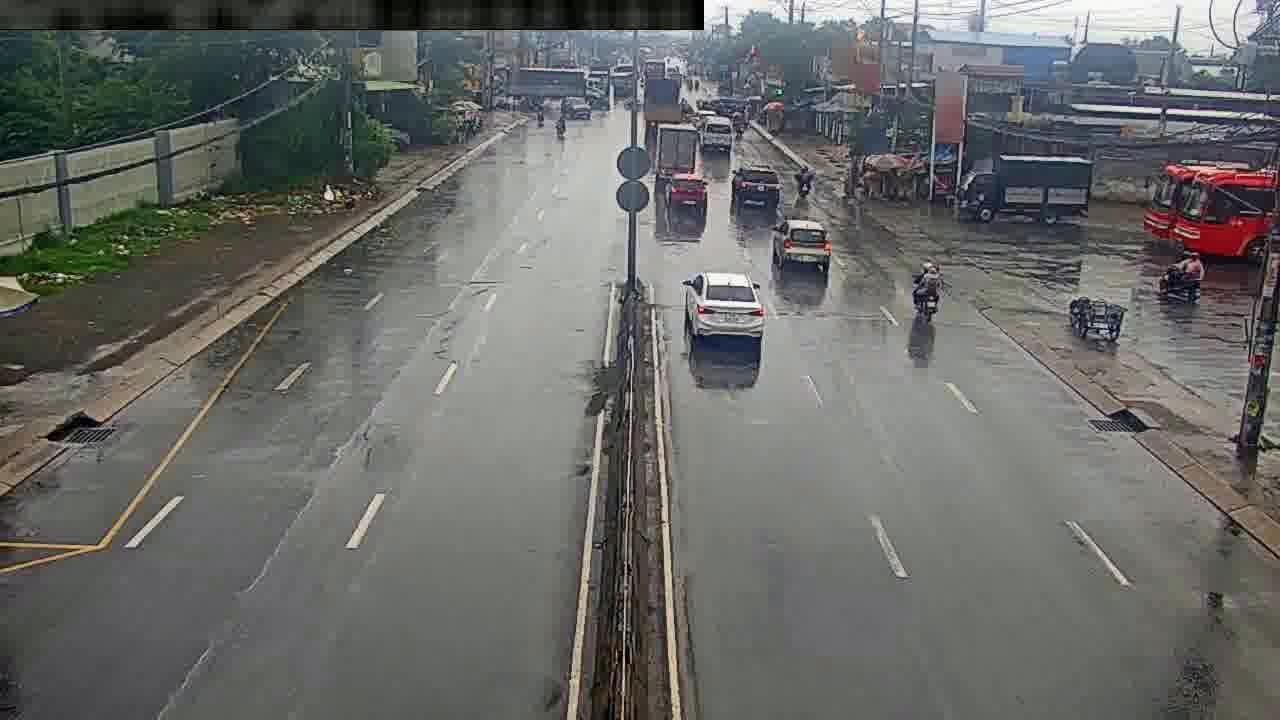container: (685, 267, 759, 346), (780, 215, 827, 272), (734, 159, 777, 209), (667, 175, 710, 208)
motorbike: (1157, 251, 1202, 303), (915, 260, 940, 323), (796, 162, 813, 201)
